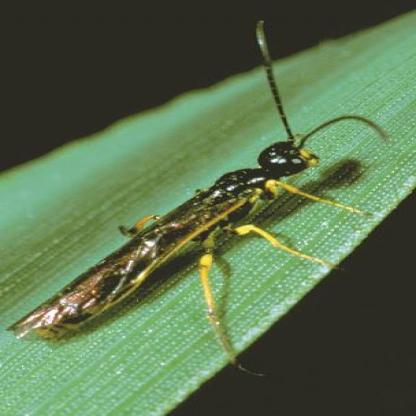sawfly: (12, 15, 411, 375)
